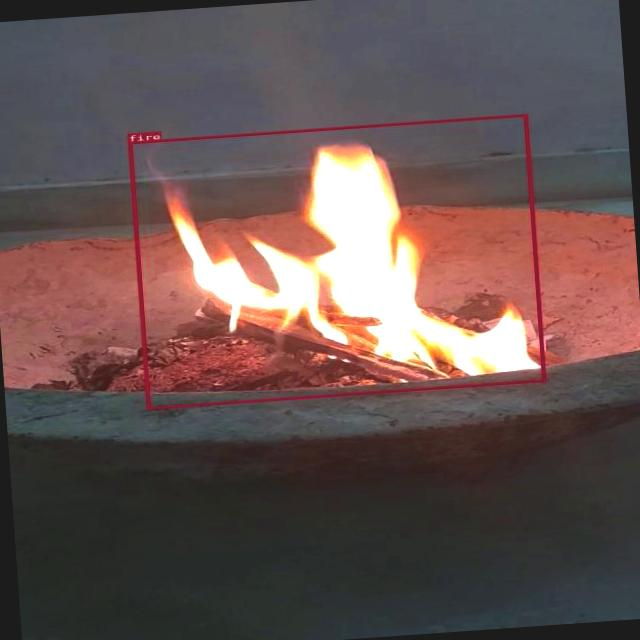fire: (126, 114, 544, 409)
